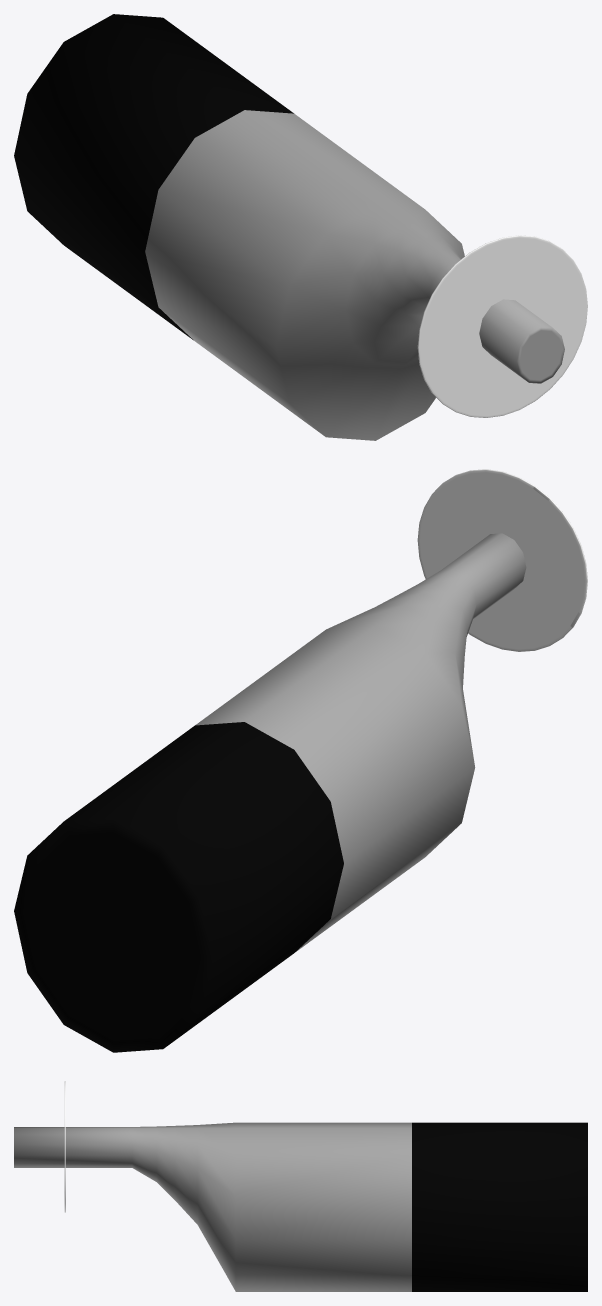
Rendered from Autopsy_Saw.fbx.
The picture shows the model from 3 angles, top to bottom: view 1: azimuth 30°, elevation 25°; view 2: azimuth 150°, elevation 25°; view 3: azimuth 270°, elevation 25°; orthographic projection. The views are drawn at different scales.
Visible parts, largest first — view 1: Handle_Sm, Saw_Blade_SM; view 2: Handle_Sm, Saw_Blade_SM; view 3: Handle_Sm.
Part boxes in pixels (x1=…): Handle_Sm: x1=14, y1=14, x2=564, y2=440; Saw_Blade_SM: x1=417, y1=235, x2=587, y2=417; Handle_Sm: x1=14, y1=533, x2=526, y2=1052; Saw_Blade_SM: x1=417, y1=469, x2=587, y2=651; Handle_Sm: x1=14, y1=1122, x2=587, y2=1291.
Bounding box in the file's own units: 7.5 × 10.66 × 27.89.
3 materials, 1 textured.
